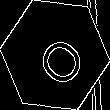O_NW: (25, 23, 85, 87)
